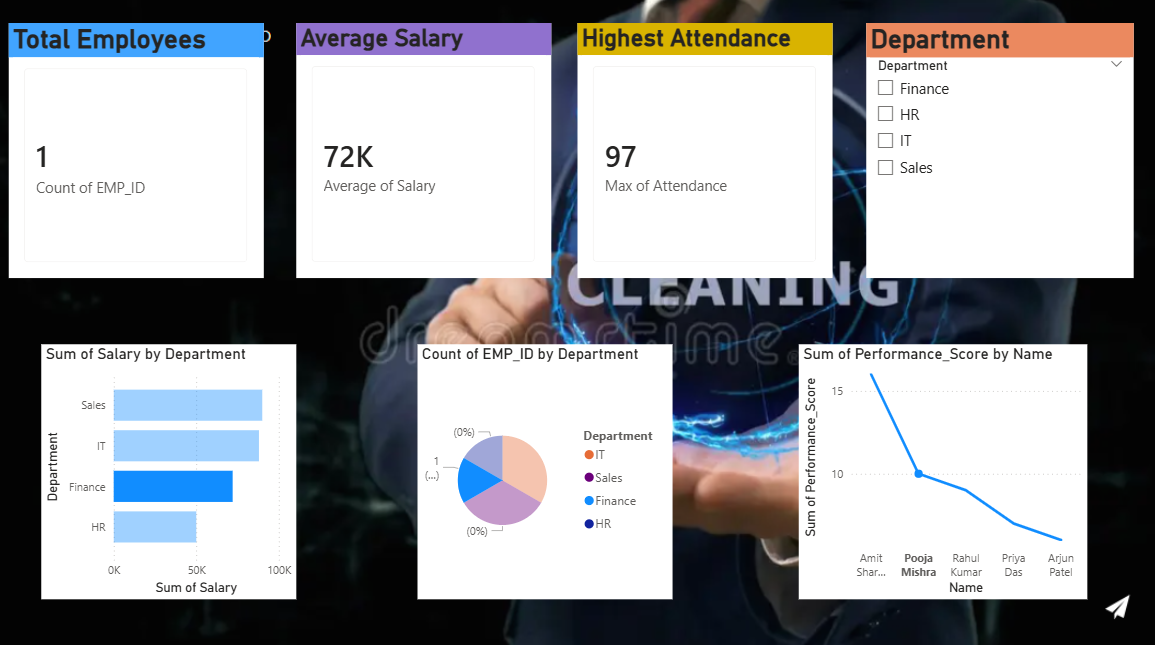

Layout of this report page (visuals, bound fields, positions):
{"tool":"powerbi","page":{"name":"Page 1","canvas":[1280,720],"ordinal":0},"visuals":[{"type":"cardVisual","title":"Total Employees","fields":{"Data":["CountNonNull(Sheet1.EMP_ID)"]},"box":[15.1,32.9,279.9,279.9],"z":0},{"type":"cardVisual","title":"Average Salary","fields":{"Data":["Avg(Sheet1.Salary)"]},"box":[330.7,32.9,279.9,279.9],"z":1},{"type":"cardVisual","title":"Highest Attendance","fields":{"Data":["Max(Sheet1.Attendance)"]},"box":[639.5,32.9,279.9,279.9],"z":2},{"type":"clusteredBarChart","fields":{"Category":["Sheet1.Department"],"Y":["Sum(Sheet1.Salary)"]},"box":[50.8,385.6,279.9,279.9],"z":3},{"type":"pieChart","fields":{"Category":["Sheet1.Department"],"Y":["CountNonNull(Sheet1.EMP_ID)"]},"box":[464,386,280,280],"z":4},{"type":"slicer","title":"Department","fields":{"Values":["Sheet1.Department"]},"box":[956.4,32.9,293.7,279.9],"z":6},{"type":"lineChart","fields":{"Category":["Sheet1.Name"],"Y":["Sum(Sheet1.Performance_Score)"]},"box":[882.3,385.6,317,279.9],"z":7}]}

Visuals, with their boxes in screenshot pixels (x1, y1, x2, y2), scaled from the page's 1280x720 canvas onto the 1155x645 screenshot:
"Total Employees" cardVisual: crop(14, 29, 266, 280)
"Average Salary" cardVisual: crop(298, 29, 551, 280)
"Highest Attendance" cardVisual: crop(577, 29, 830, 280)
clusteredBarChart - Sheet1.Department x Sum(Sheet1.Salary): crop(46, 345, 298, 596)
pieChart - Sheet1.Department x CountNonNull(Sheet1.EMP_ID): crop(419, 346, 671, 597)
"Department" slicer: crop(863, 29, 1128, 280)
lineChart - Sheet1.Name x Sum(Sheet1.Performance_Score): crop(796, 345, 1082, 596)
